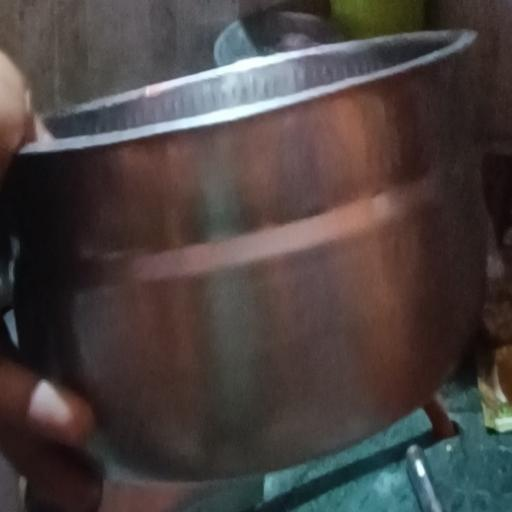vessel: (15, 32, 484, 479)
